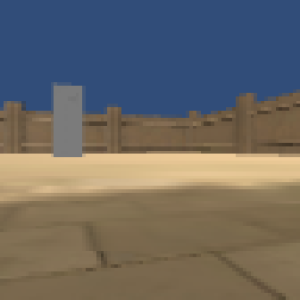wall: (51, 83, 84, 159)
